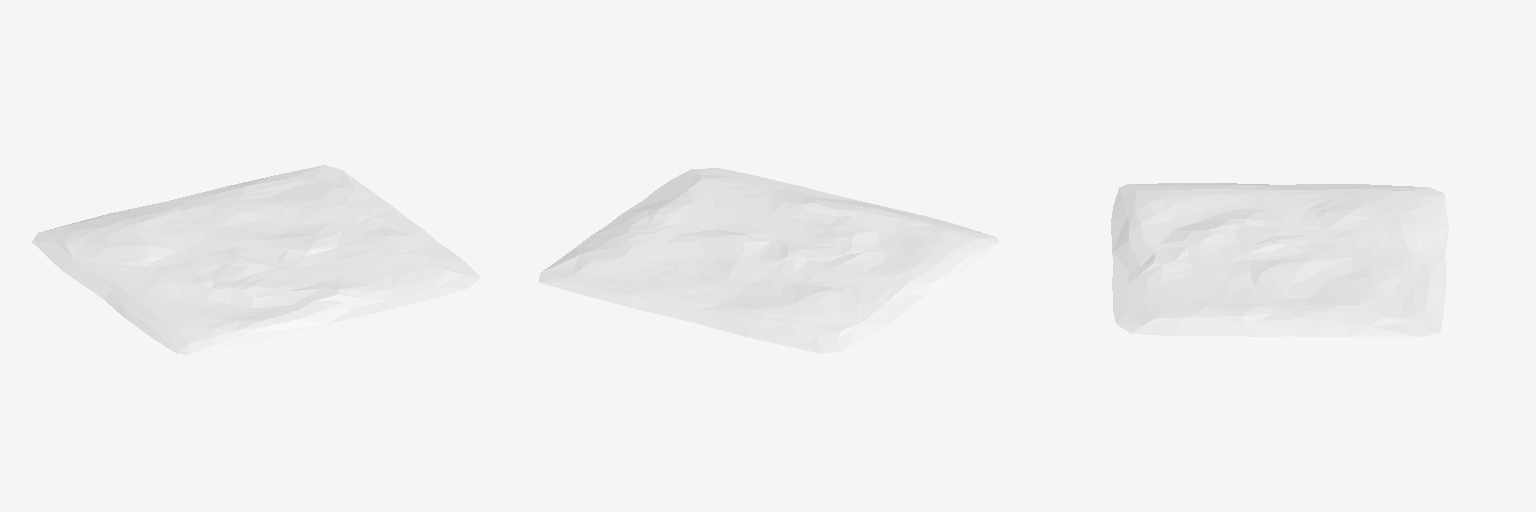
File: GrassBase.obj
3 renders of one model, left to right at view 1: azimuth 30°, elevation 25°; view 2: azimuth 150°, elevation 25°; view 3: azimuth 270°, elevation 25°, orthographic.
Parts seen in each view (by area): view 1: SM_Env_Grass_Square_01_Mesh; view 2: SM_Env_Grass_Square_01_Mesh; view 3: SM_Env_Grass_Square_01_Mesh.
Boxes of the visible parts, x1=… form: SM_Env_Grass_Square_01_Mesh: x1=32, y1=165, x2=479, y2=354; SM_Env_Grass_Square_01_Mesh: x1=539, y1=168, x2=998, y2=353; SM_Env_Grass_Square_01_Mesh: x1=1111, y1=183, x2=1448, y2=336.
Size of the model in its own units: 20.74 by 0.522 by 19.23.